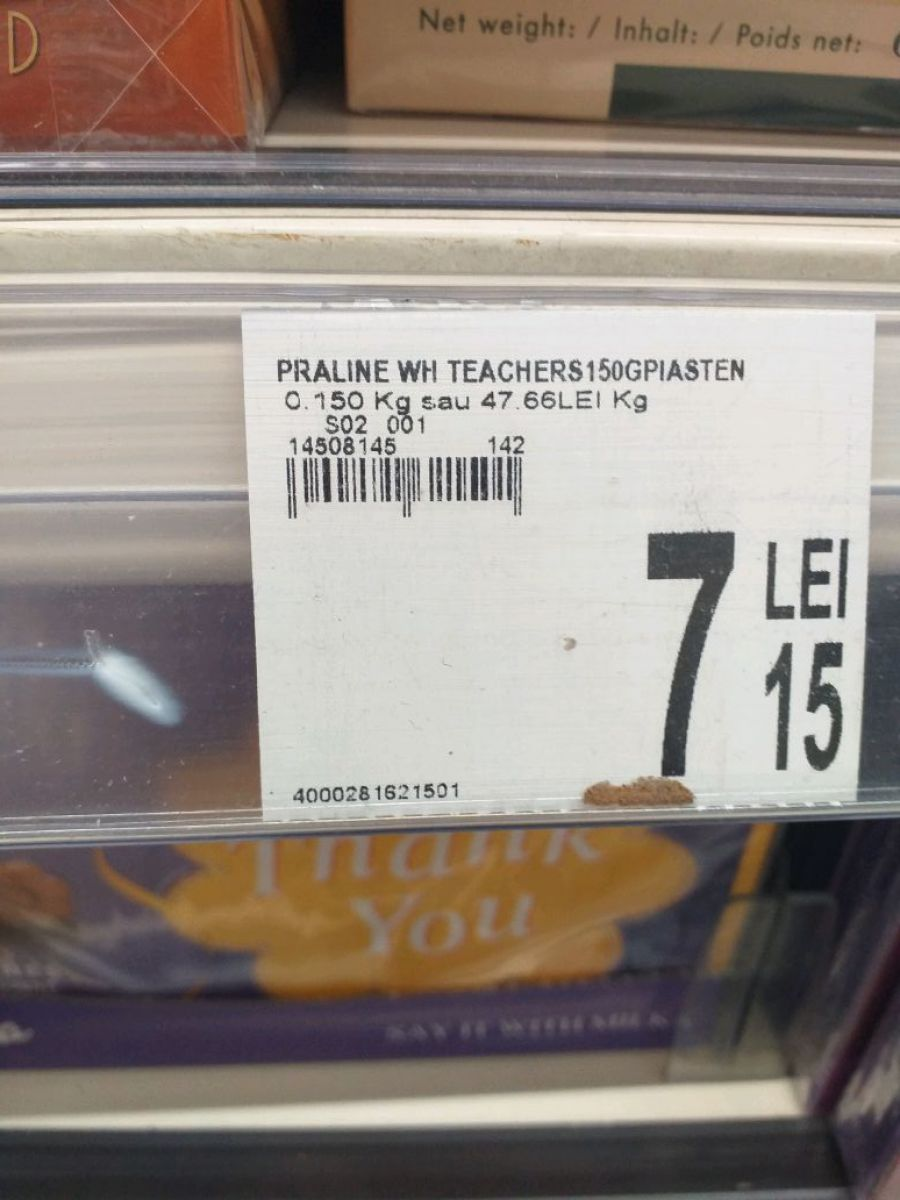price_bani: (747, 627, 856, 797)
price_lei: (607, 524, 748, 791)
price_tag: (206, 277, 900, 842)
product_id: (284, 774, 475, 809)
product_name: (258, 349, 776, 389)
